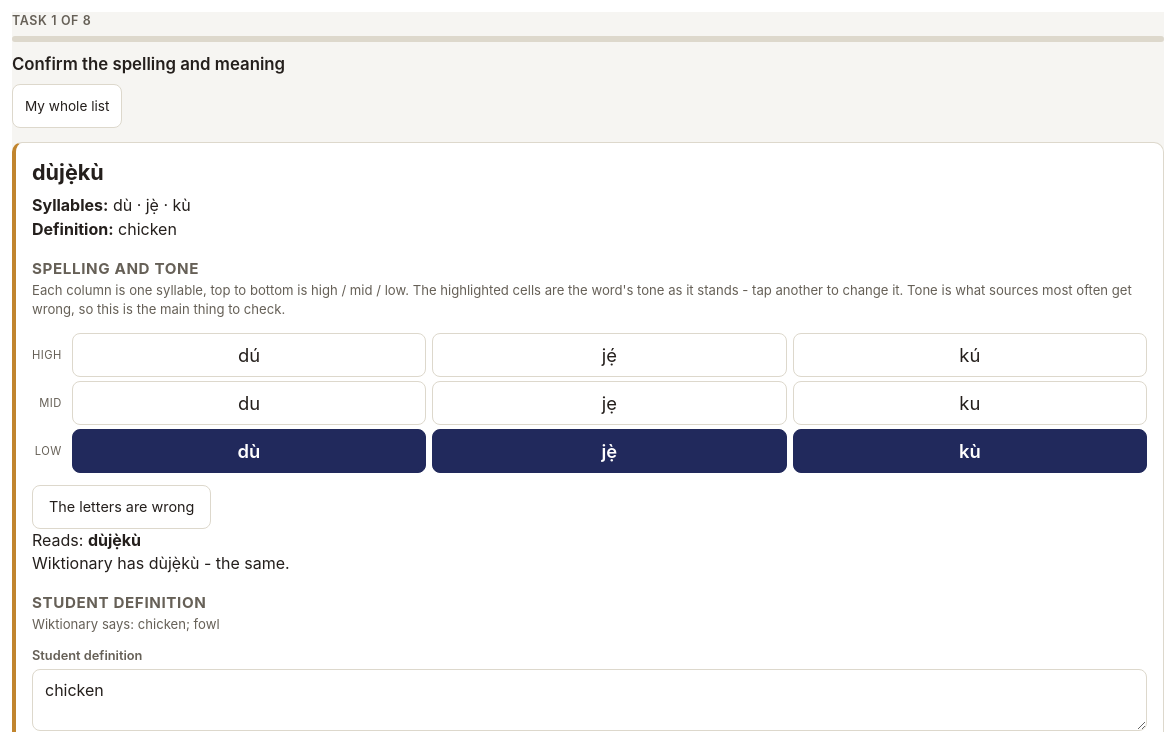
Scenario: TaskQueue › can still show the whole list as an escape hatch
What coordinates should you click on to do the following:
click the button "My whole list"
I would click on:
 (67, 106)
Its box is [12, 84, 122, 128].
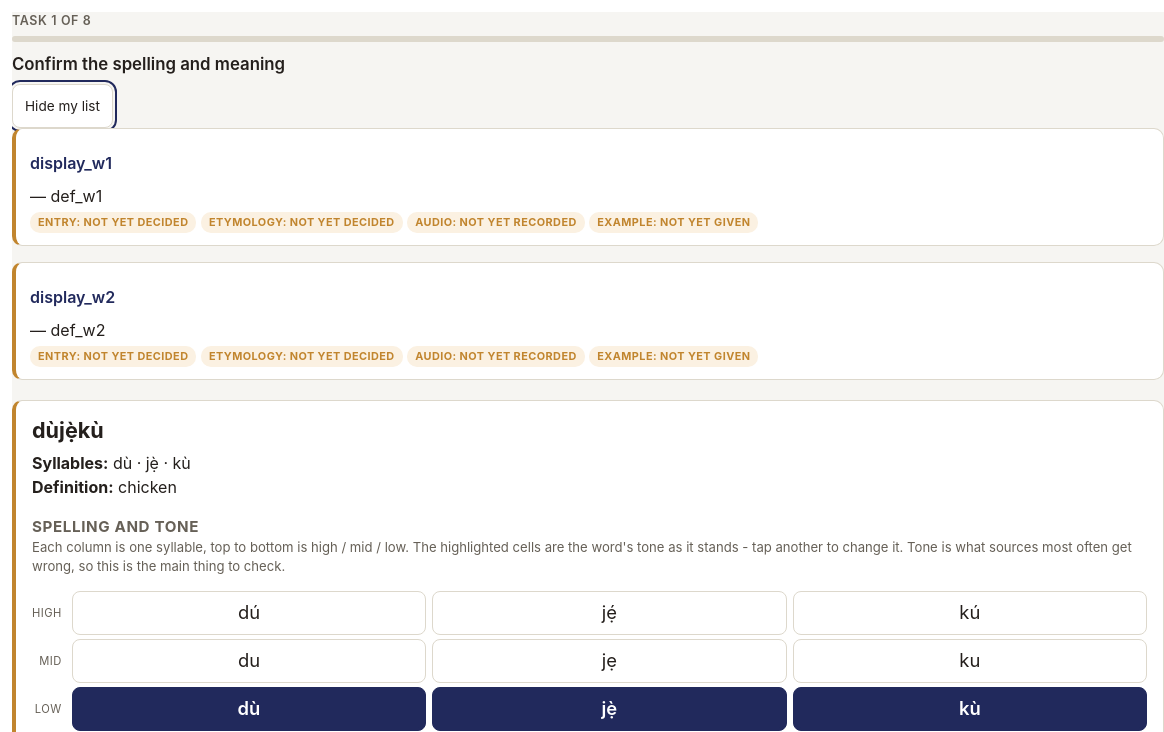
Expected: the list named "My assignments" shows "display_w1", [30, 141, 112, 185]
Expected: the list named "My assignments" shows "display_w2", [30, 275, 115, 319]
